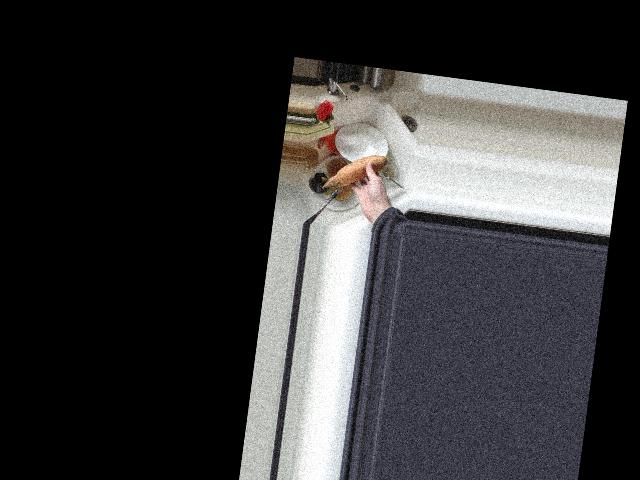sweet_potato: (323, 147, 388, 198)
